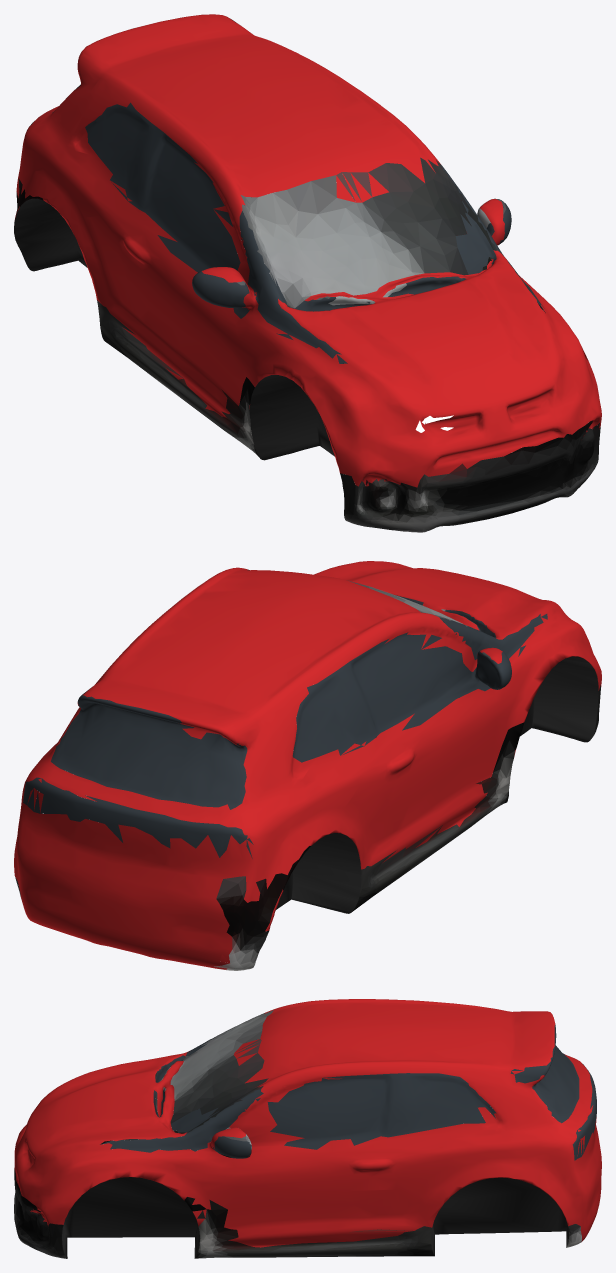
Rendered from sprout.glb.
3 views of the same model, one above another, from view 1: azimuth 30°, elevation 25°; view 2: azimuth 150°, elevation 25°; view 3: azimuth 270°, elevation 25° (orthographic). The views are drawn at different scales.
Visible parts, largest first — view 1: body; view 2: body; view 3: body.
Part boxes in pixels (box(x1,y1,x2,y2)): body: box(14, 14, 601, 532); body: box(14, 561, 601, 970); body: box(14, 999, 601, 1258).
Bounding box in the file's own units: 1.86 × 1.4 × 3.95.
